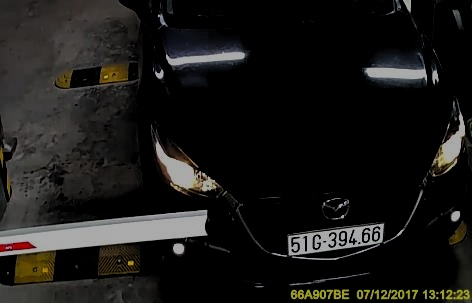plate: (288, 214, 388, 263)
